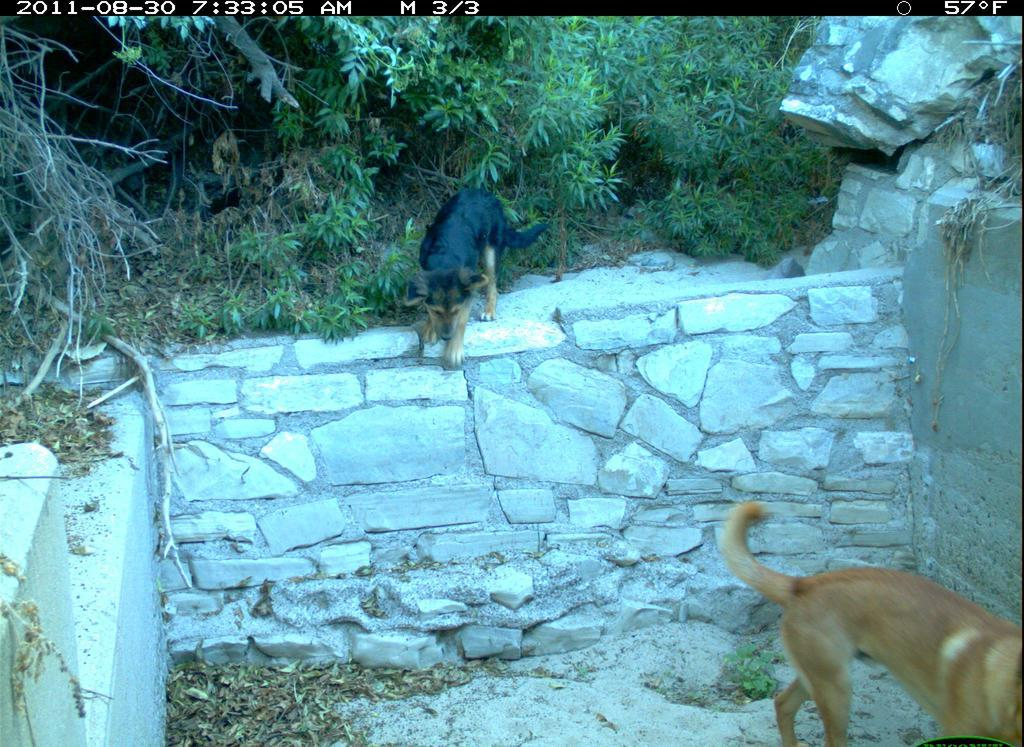dog: (711, 474, 1023, 740), (408, 185, 559, 374)
